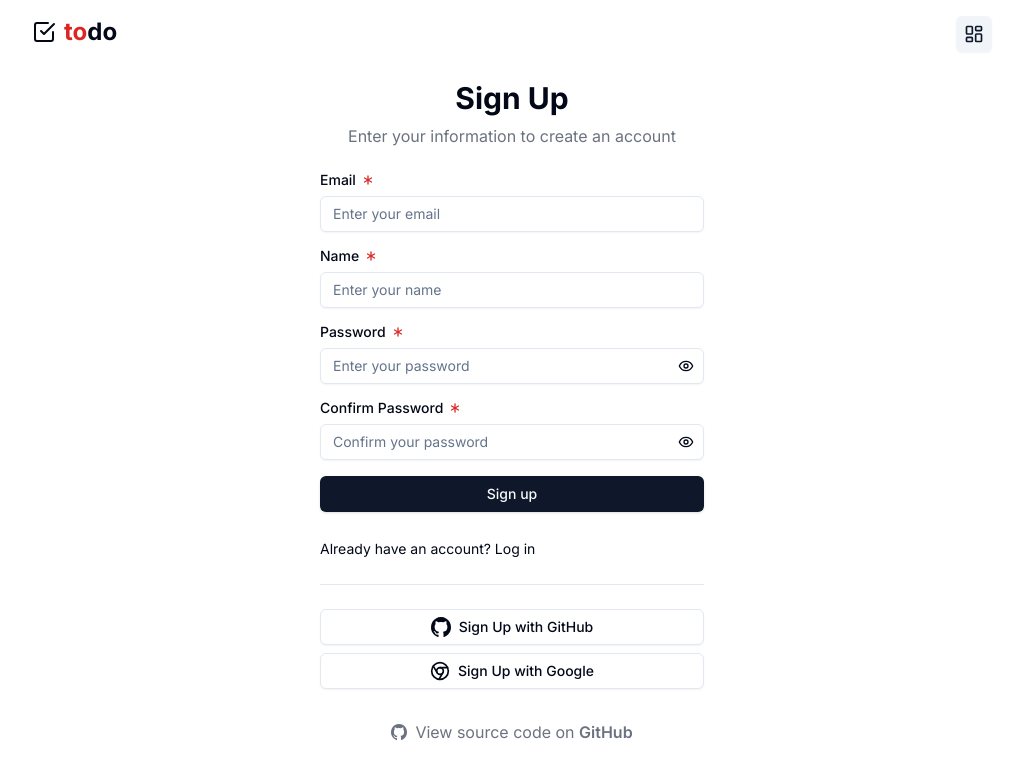
Test: Submit signup form › should show an error if passwords don't match
In the password field named "password": [512, 366] box [320, 348, 704, 384], type "12345678"
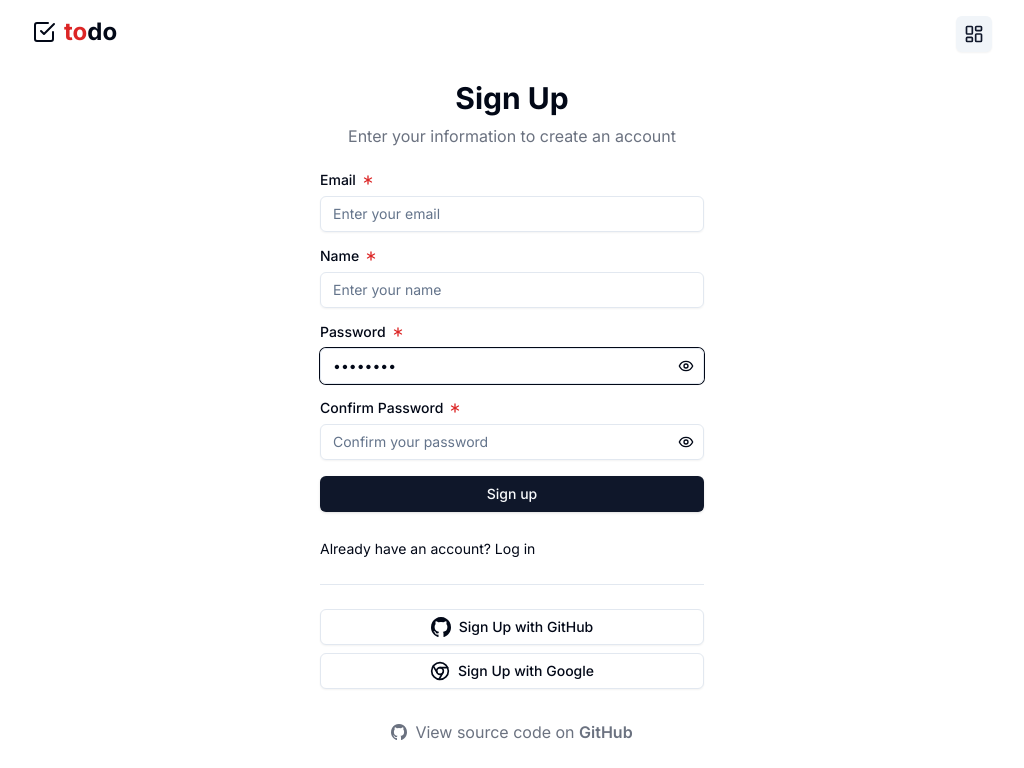
In the password field named "passwordConfirm": [512, 442] box [320, 424, 704, 460], type "123456789"
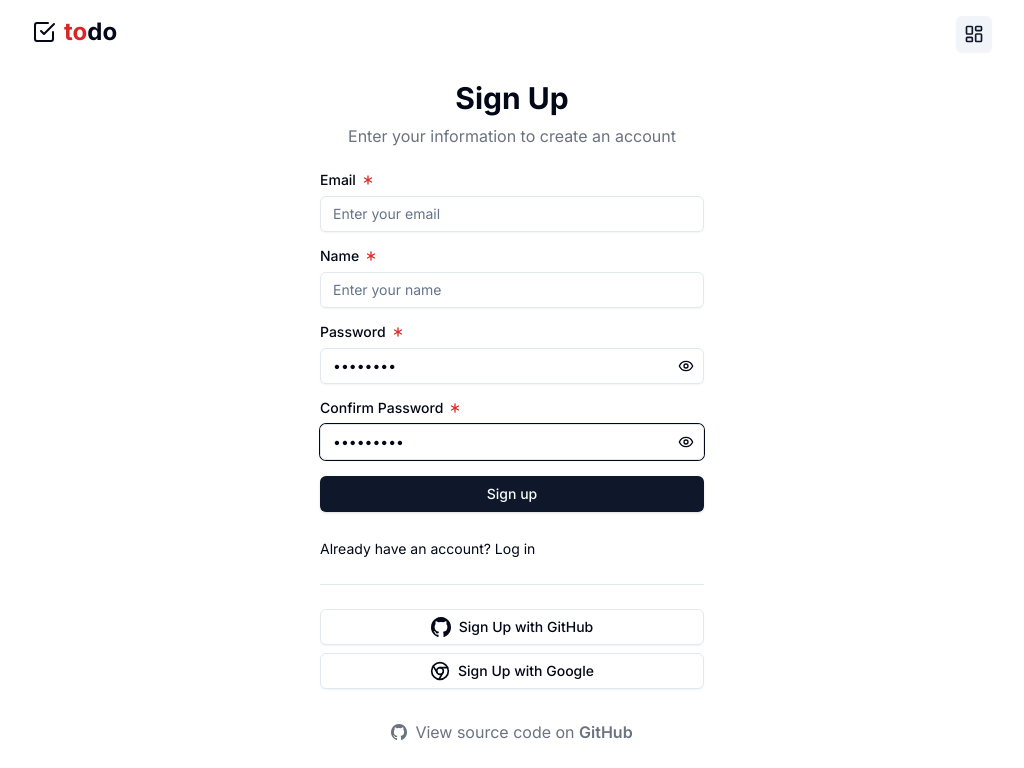
Click the submit button: [512, 494] box [320, 476, 704, 512]
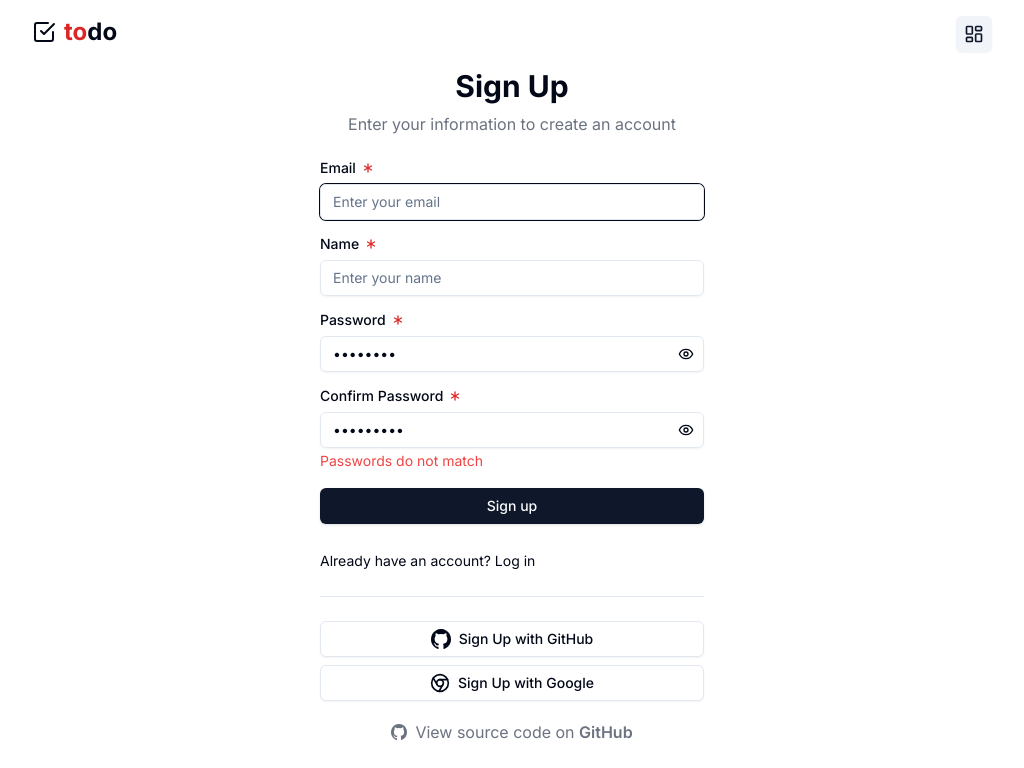
Result: the text "Passwords do not match" is shown at [320, 452, 483, 468]
